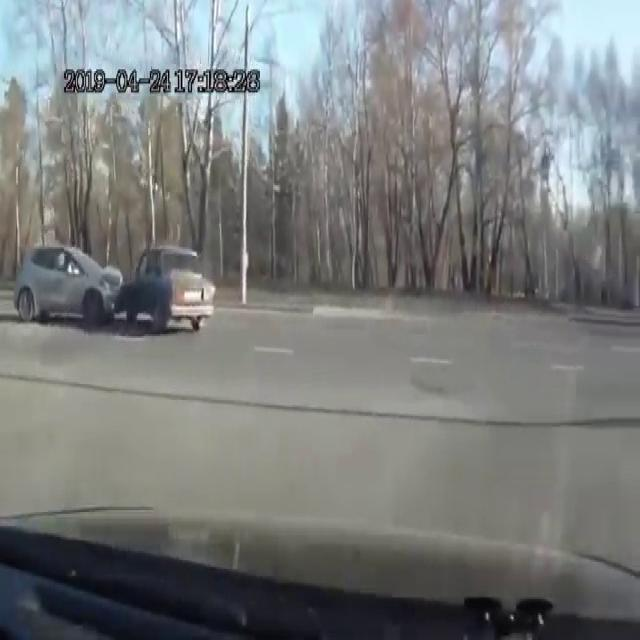moderate: (12, 229, 217, 345)
